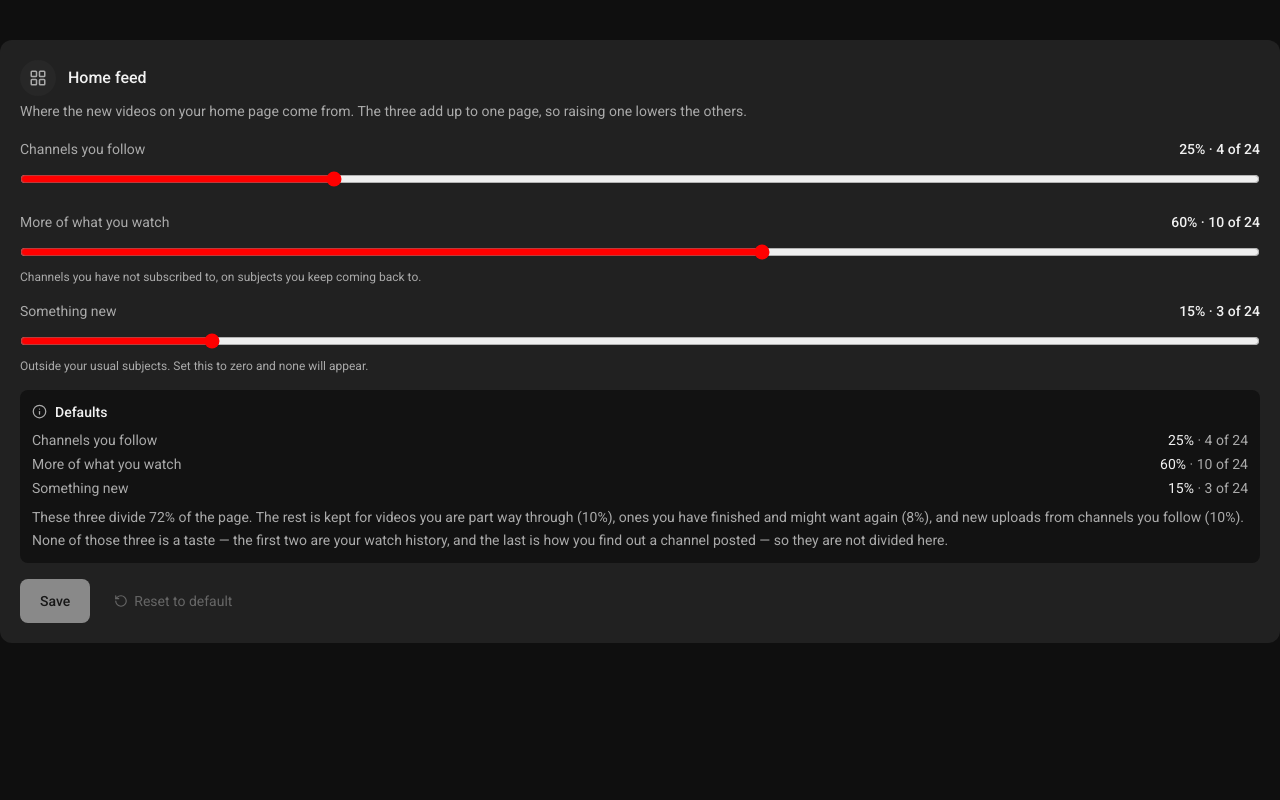
Test: FeedMixSettings › confirms the save, because nothing on this page shows the result
This screenshot has width=1280, height=800.
Step 1. Set the slider labelled "Something new" to "40" → (518, 341), box x1=20 y1=329 x2=1260 y2=353
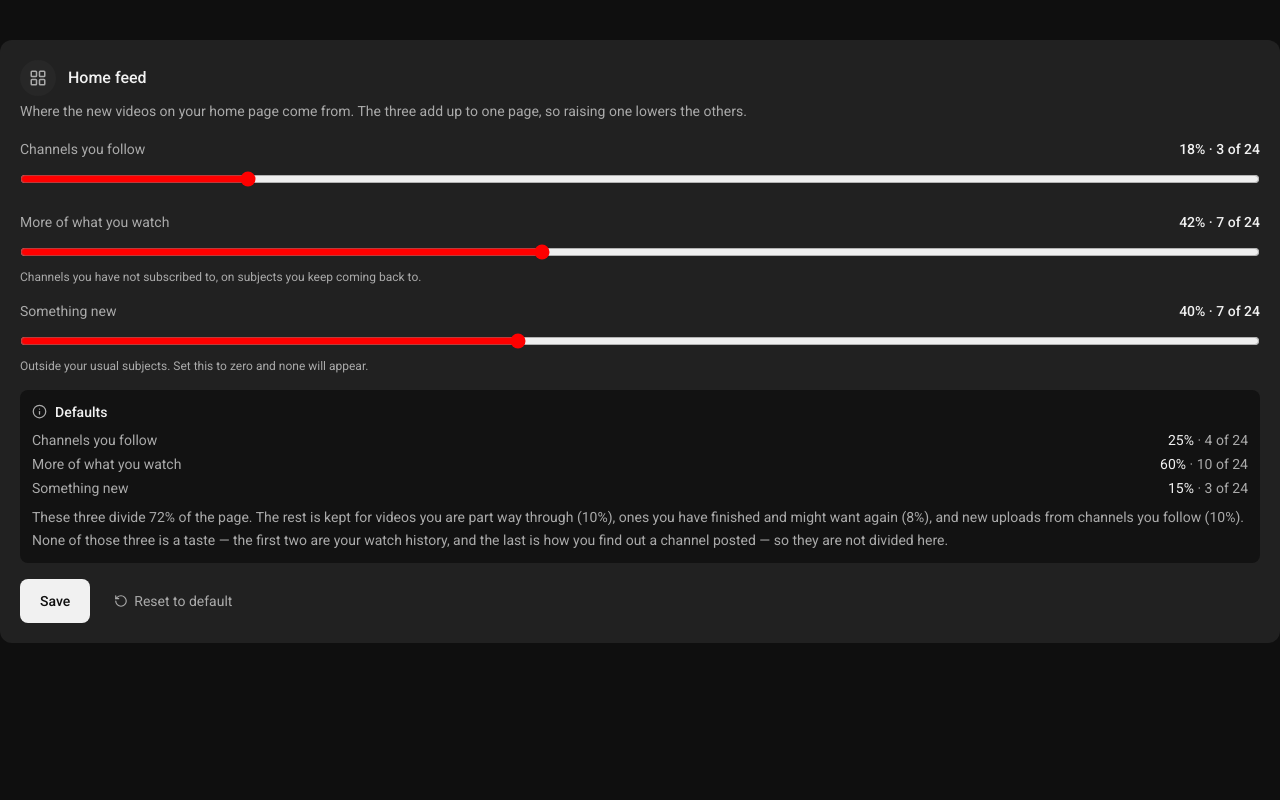
Step 2. Click the button "Save" → (55, 601), box x1=20 y1=579 x2=90 y2=623
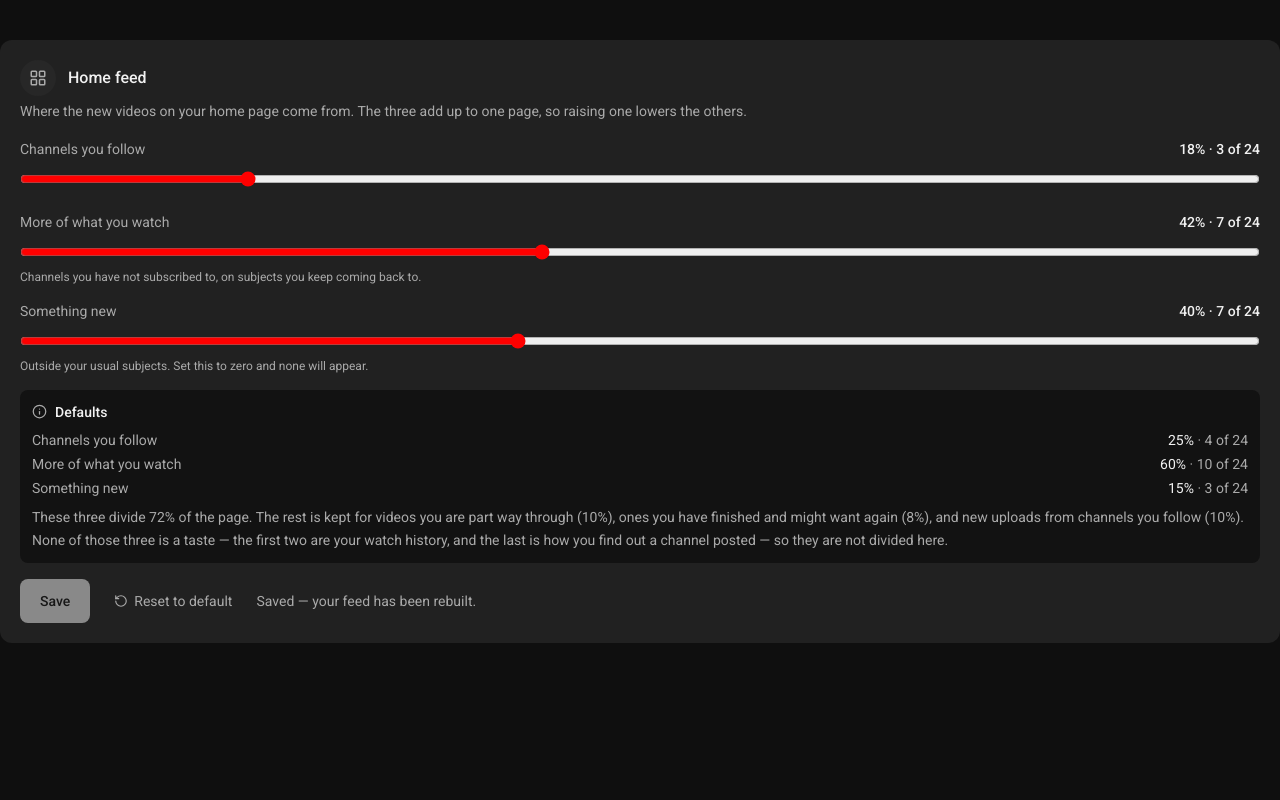
Now the text "Saved — your feed has been rebuilt." is shown, box x1=256 y1=591 x2=476 y2=611
